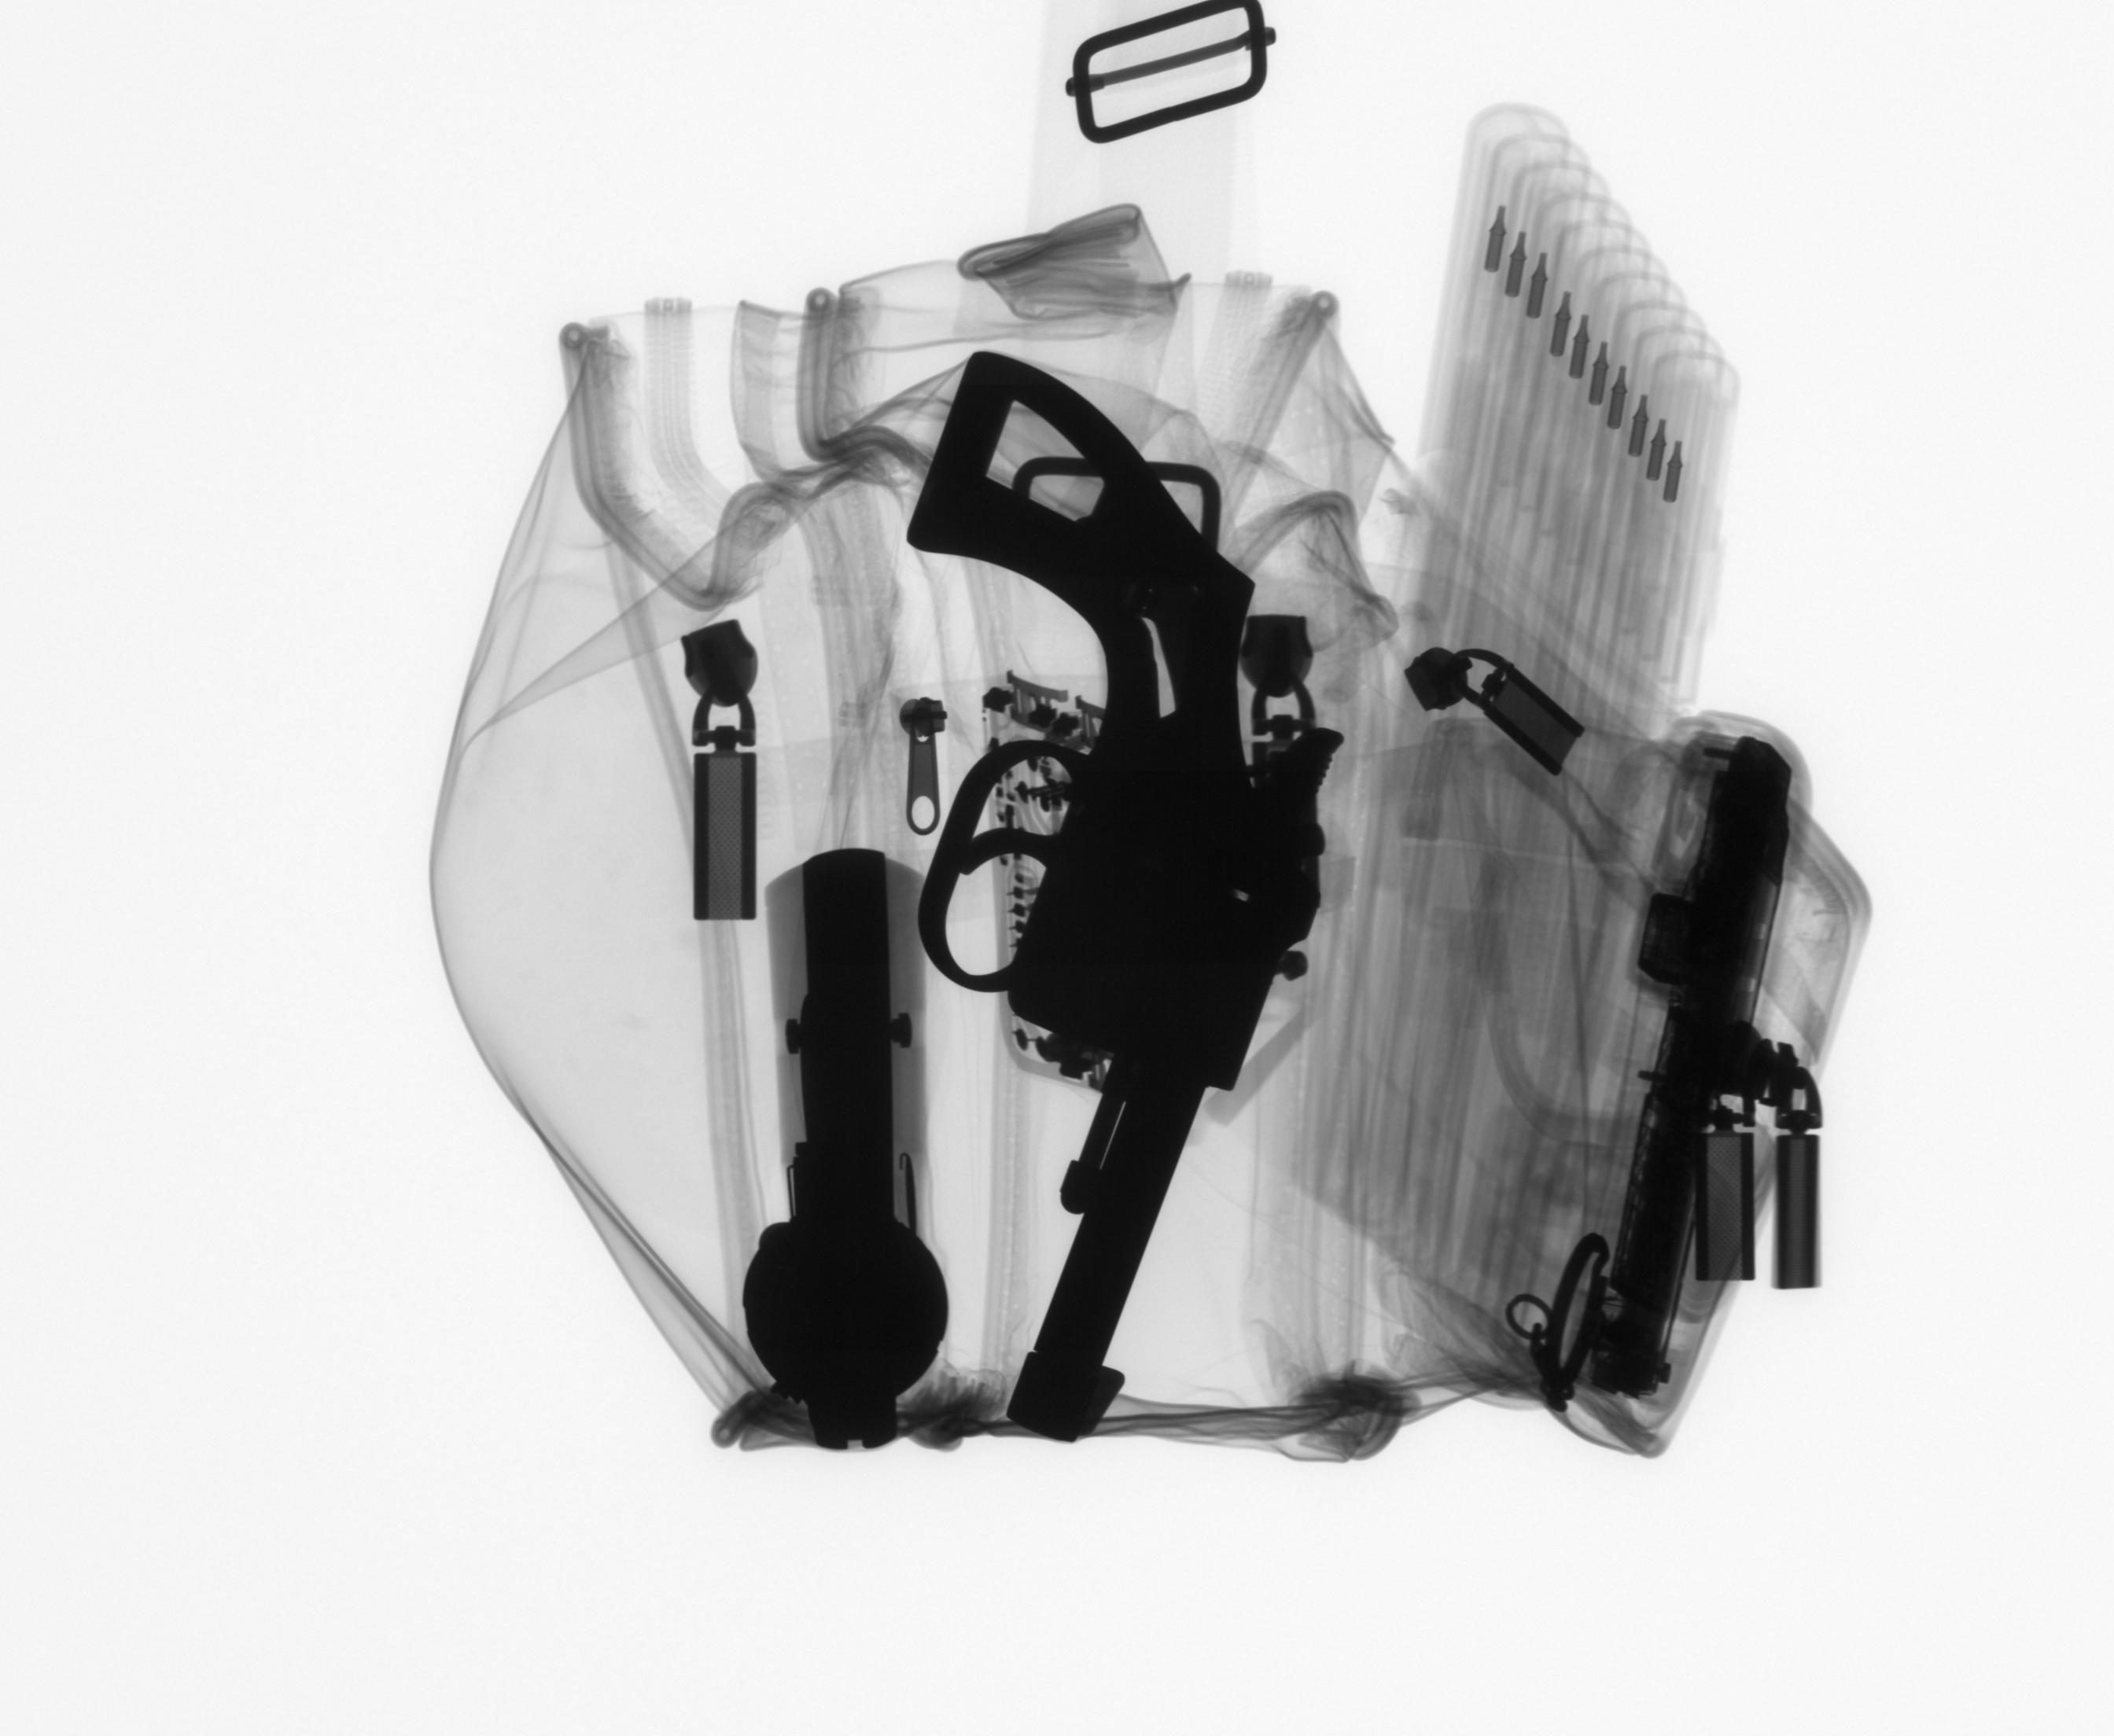Handgun: (894, 330, 1373, 1466)
